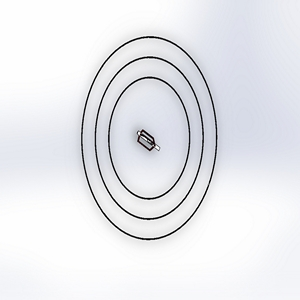circle: (76, 31, 230, 247)
submarine: (129, 123, 162, 154)
